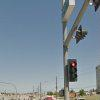Traffic light: (57, 51, 86, 85)
